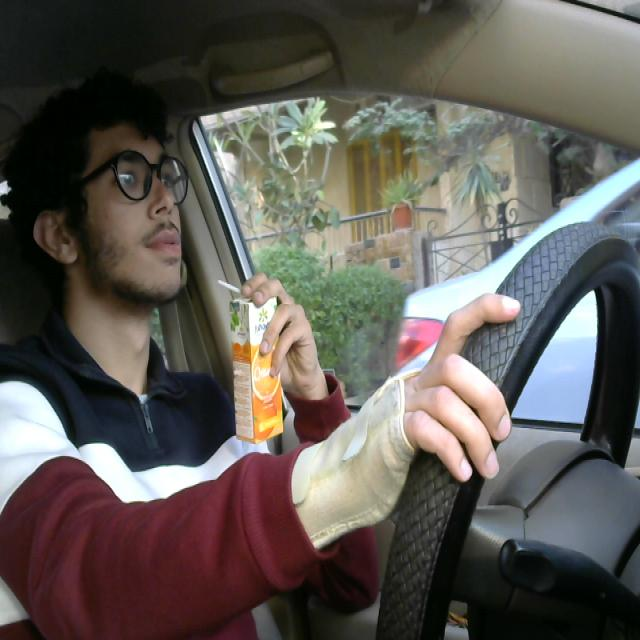drinking: (212, 274, 288, 446)
